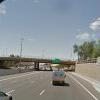Car: (47, 68, 71, 92)
